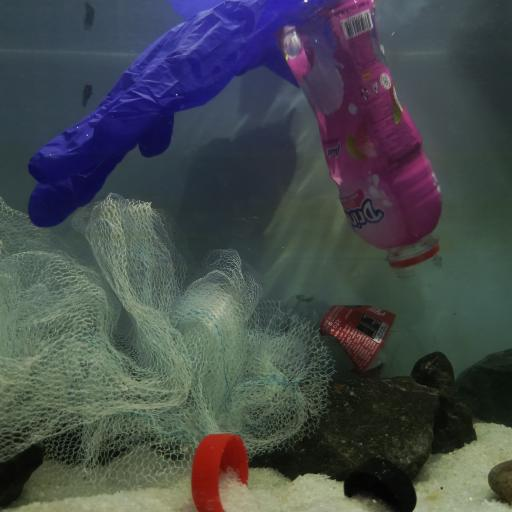bottle_cap: (192, 431, 250, 512), (344, 455, 418, 511)
glove: (28, 0, 334, 228)
net: (0, 194, 334, 490)
plastic_bottle: (278, 0, 446, 276), (280, 292, 423, 372)
